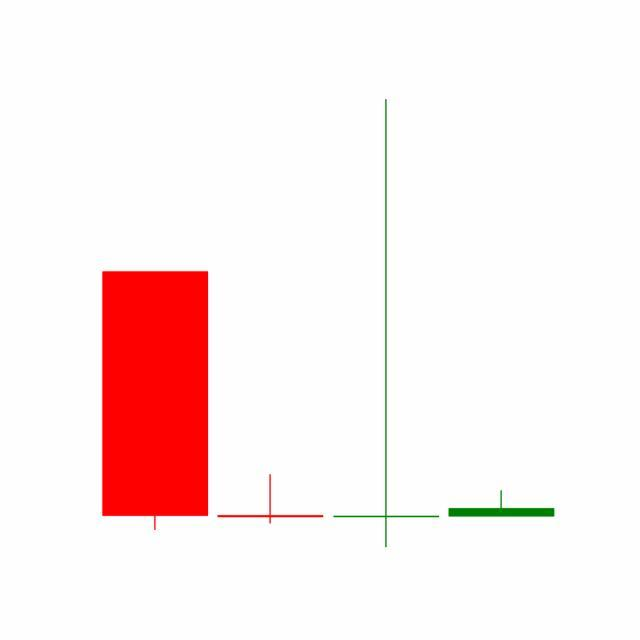Gravestone Doji: (444, 489, 560, 517)
